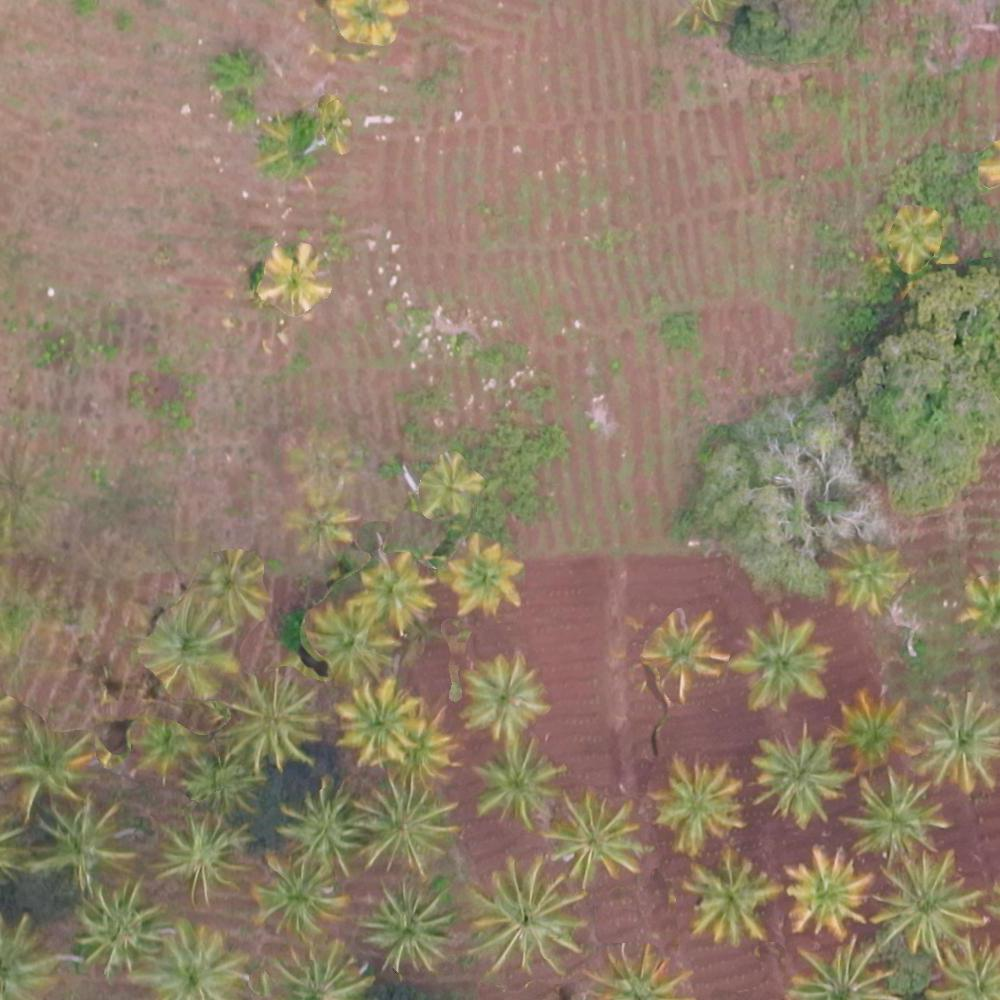Palm: (469, 860, 584, 967), (877, 857, 983, 951), (352, 775, 452, 872), (734, 612, 828, 707), (546, 793, 644, 883), (358, 880, 453, 969), (783, 849, 872, 943), (754, 731, 845, 822), (1, 722, 91, 814), (227, 675, 318, 764), (654, 759, 747, 846), (914, 694, 995, 792), (33, 802, 128, 883), (849, 774, 942, 856), (142, 606, 229, 692), (147, 928, 247, 1000), (77, 894, 169, 972), (158, 814, 247, 894), (278, 782, 363, 865), (690, 855, 772, 940), (477, 738, 559, 822), (341, 681, 421, 763), (253, 857, 337, 934), (271, 936, 370, 1000), (463, 655, 541, 735), (307, 602, 392, 675), (832, 535, 908, 611), (647, 613, 721, 689), (446, 539, 525, 610), (840, 693, 915, 766), (360, 557, 430, 626), (199, 554, 266, 622), (259, 244, 328, 310), (887, 202, 949, 272), (185, 751, 255, 813), (133, 716, 200, 778), (421, 455, 483, 517), (286, 496, 353, 551)
